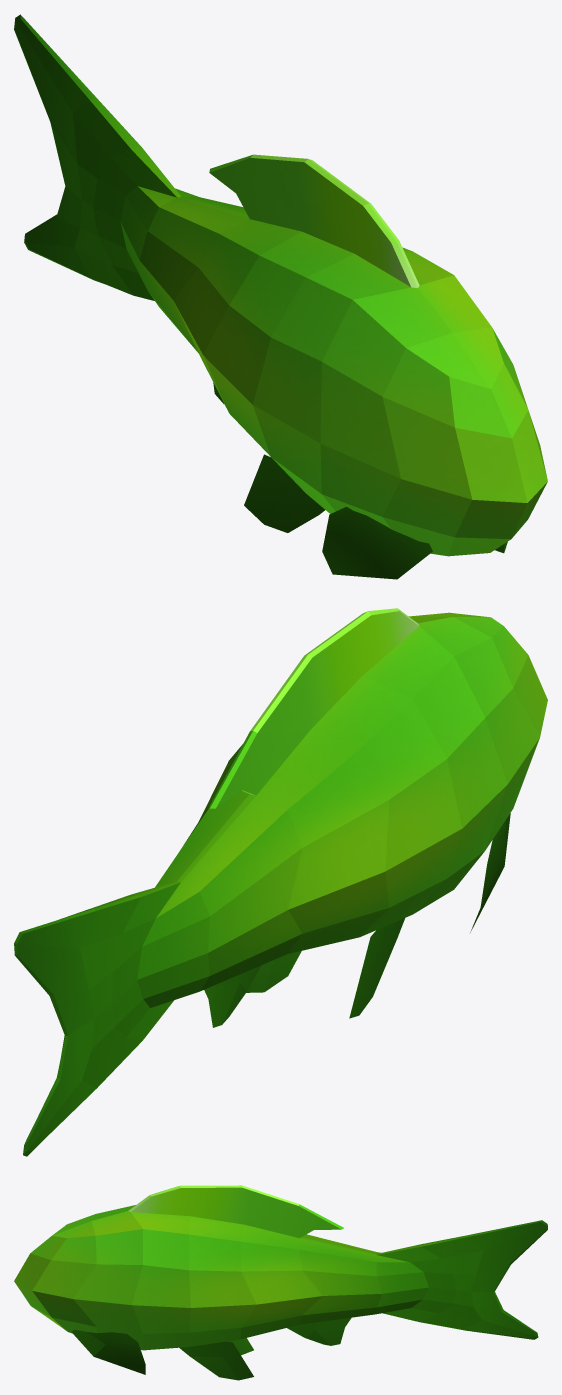
Rendered from Fish.fbx.
3 renders of one model, top to bottom at view 1: azimuth 30°, elevation 25°; view 2: azimuth 150°, elevation 25°; view 3: azimuth 270°, elevation 25°, orthographic. The views are drawn at different scales.
Visible parts, largest first — view 1: Fucking_FIsh; view 2: Fucking_FIsh; view 3: Fucking_FIsh.
Part boxes in pixels (x1,y1,x2,y2): Fucking_FIsh: (14,14,547,579); Fucking_FIsh: (14,608,547,1156); Fucking_FIsh: (14,1185,547,1380).
Size of the model in its own units: 2.06 by 3.29 by 8.71.
1 material, 1 textured.
